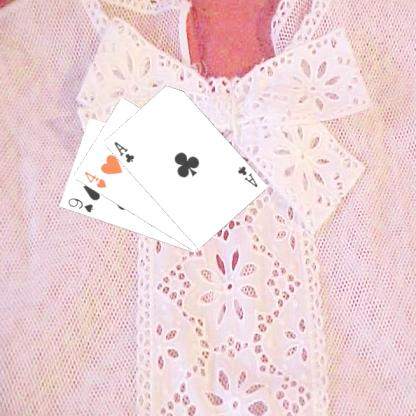4H: (81, 168, 107, 190)
9S: (65, 195, 95, 214)
AC: (110, 138, 136, 164), (234, 163, 259, 189)
